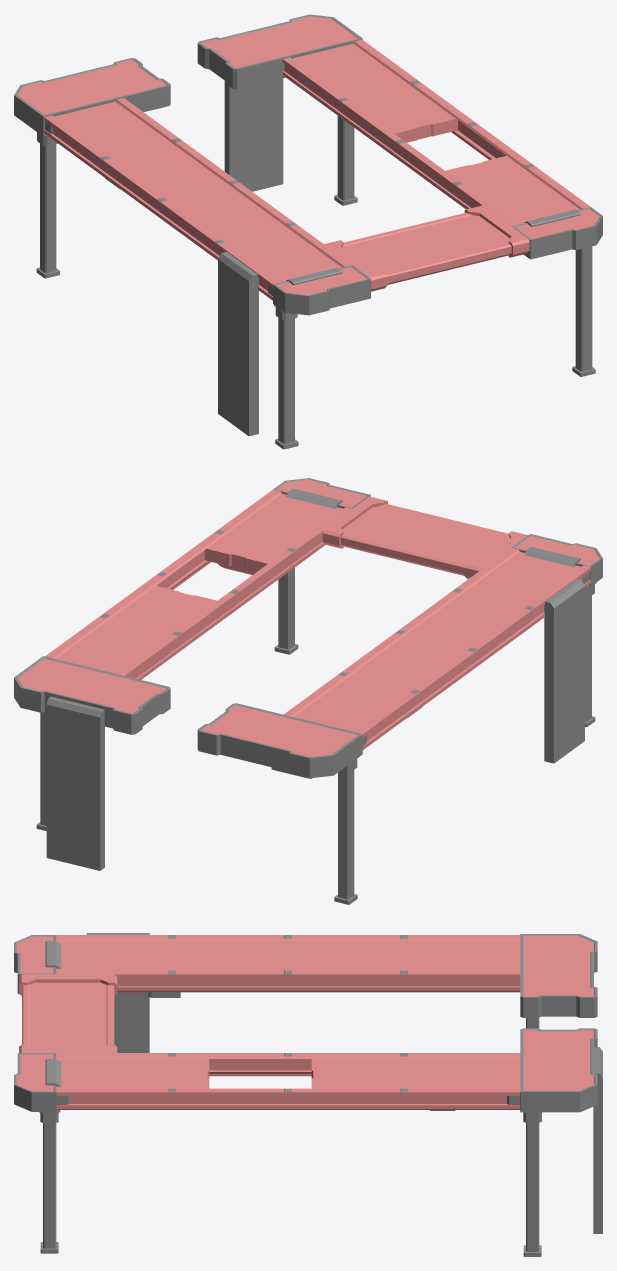
Rendered from S_Envi_Olgk_Platform_Merge_13.gltf.
The picture shows the model from 3 angles, top to bottom: view 1: azimuth 30°, elevation 25°; view 2: azimuth 150°, elevation 25°; view 3: azimuth 270°, elevation 25°; orthographic projection.
Parts seen in each view (by area): view 1: S_Envi_Olgk_Platform_Merge_13; view 2: S_Envi_Olgk_Platform_Merge_13; view 3: S_Envi_Olgk_Platform_Merge_13.
Part boxes in pixels (<box>): S_Envi_Olgk_Platform_Merge_13: <box>14,14,602,449</box>; S_Envi_Olgk_Platform_Merge_13: <box>14,478,602,904</box>; S_Envi_Olgk_Platform_Merge_13: <box>14,933,602,1256</box>.
Size of the model in its own units: 12.06 by 5.79 by 18.49.
